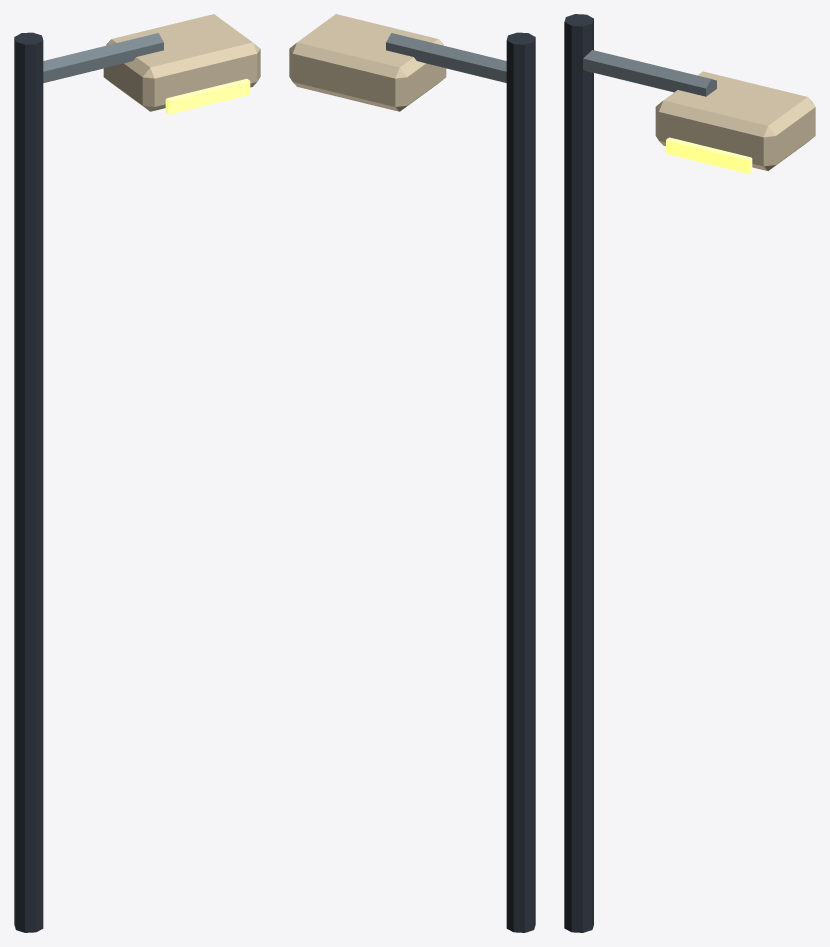
The model's file is street_017_seed11.glb.
3 views of the same model, side by side, from view 1: azimuth 30°, elevation 25°; view 2: azimuth 150°, elevation 25°; view 3: azimuth 330°, elevation 25° (orthographic). The views are drawn at different scales.
Visible parts, largest first — view 1: street_017_seed11; view 2: street_017_seed11; view 3: street_017_seed11.
Part boxes in pixels (x1,y1,x2,y2): street_017_seed11: [14, 14, 260, 932]; street_017_seed11: [289, 14, 535, 932]; street_017_seed11: [564, 14, 815, 932].
Size of the model in its own units: 0.955 by 3.6 by 0.3775.
